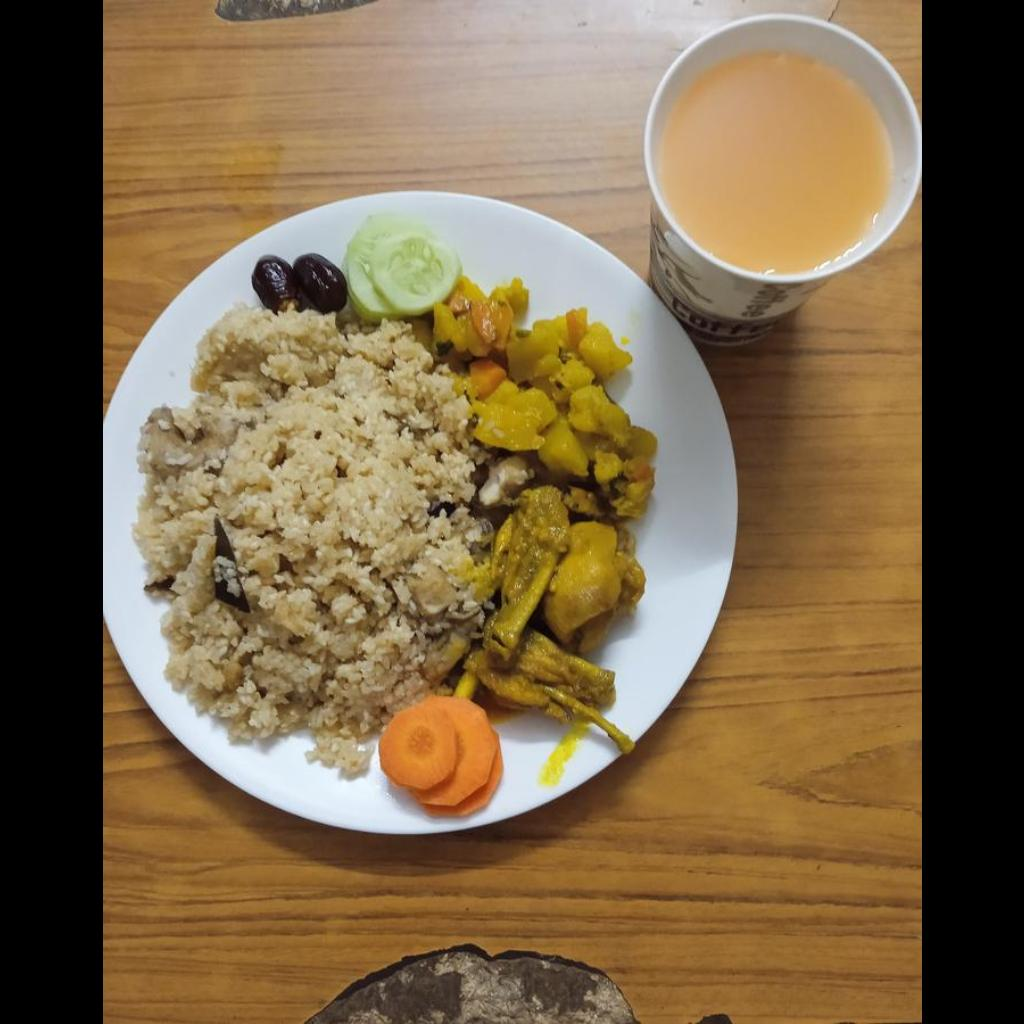biriyani: (132, 303, 498, 781)
carrot: (378, 696, 500, 814)
chicken: (471, 488, 648, 753)
cucumber: (341, 215, 464, 322)
dates: (250, 253, 349, 313)
juice: (657, 51, 896, 275)
vegetable: (431, 276, 660, 519)
